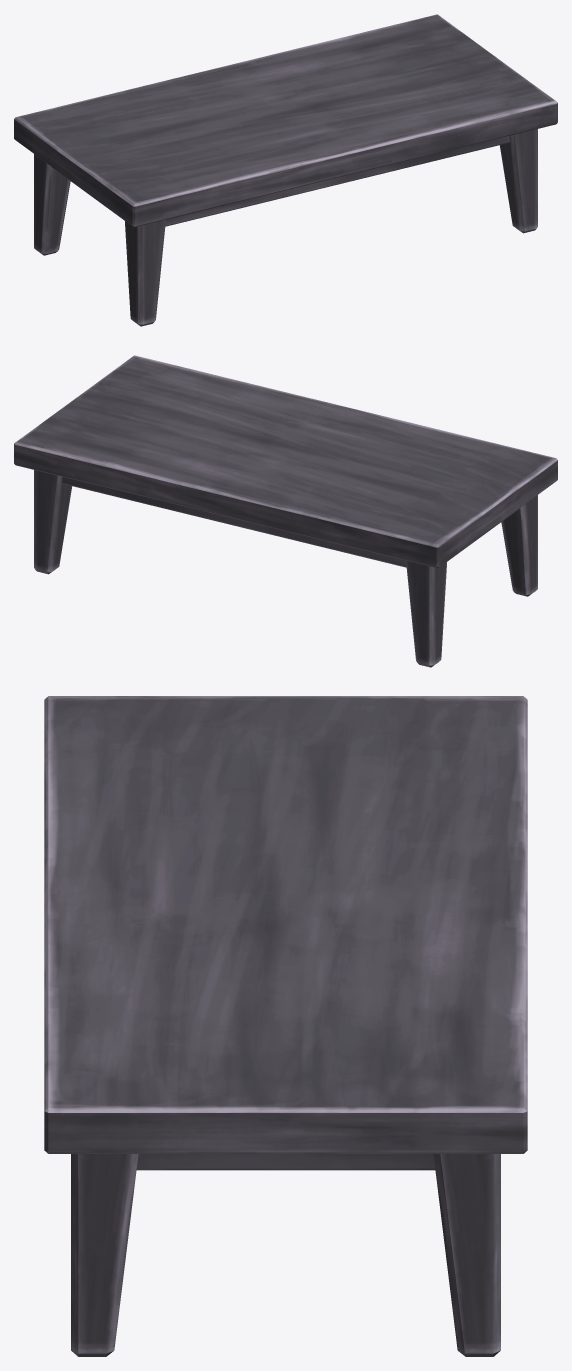
Rendered from Table.fbx.
The picture shows the model from 3 angles, top to bottom: view 1: azimuth 30°, elevation 25°; view 2: azimuth 150°, elevation 25°; view 3: azimuth 270°, elevation 25°; orthographic projection. The views are drawn at different scales.
Parts seen in each view (by area): view 1: Table; view 2: Table; view 3: Table.
Boxes of the visible parts, <box> form: Table: <box>14,14,557,326</box>; Table: <box>14,355,557,667</box>; Table: <box>44,696,527,1356</box>.
Size of the model in its own units: 14.8 by 30.08 by 8.88.
